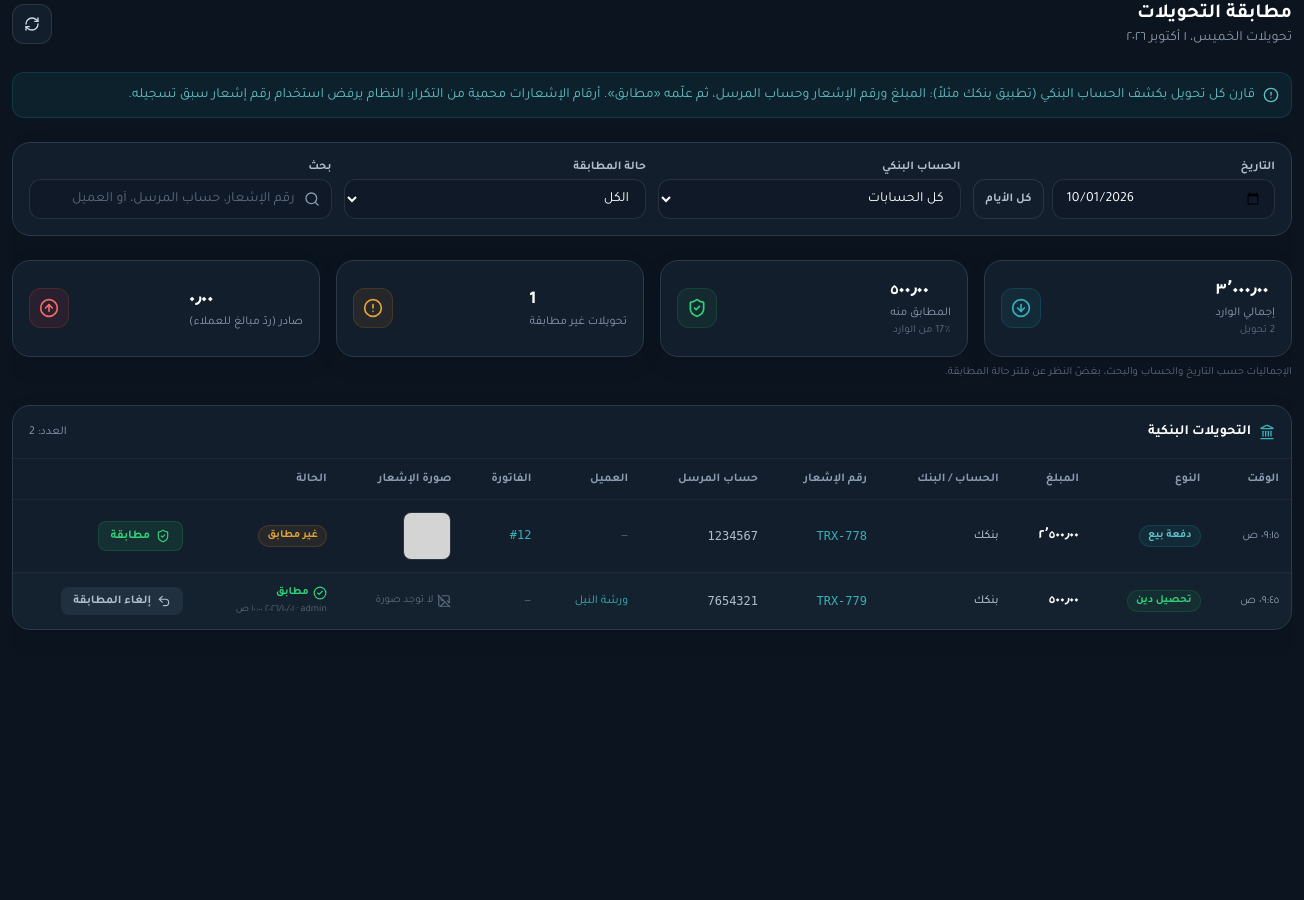
صفحة مطابقة التحويلات › المطابقة تحدّث السطر والإجماليات دون إعادة تحميل
This screenshot has width=1304, height=900.
Click the button "مطابقة" at (140, 536), box [98,521,183,551]
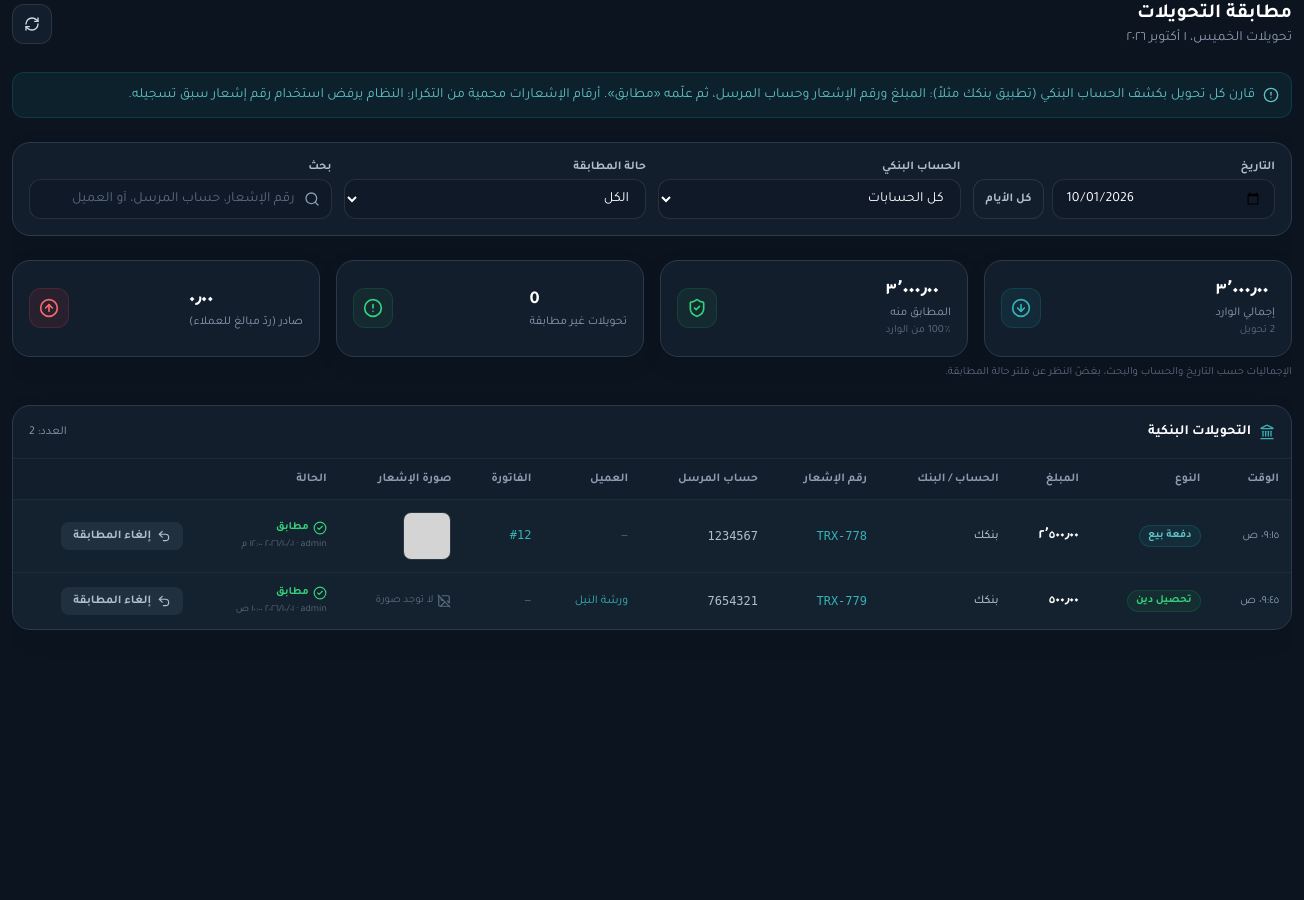
Result: the button "إلغاء المطابقة" in the row of "٠٩:١٥ ص" is shown at [61,522,183,550]
Result: the text "0" is shown at [530,291,540,309]
